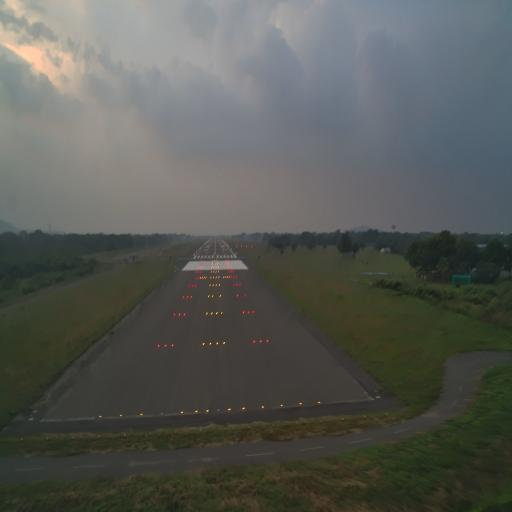off: (216, 406, 221, 414), (160, 409, 164, 418)
on: (240, 403, 246, 414), (298, 400, 304, 409), (179, 406, 184, 416), (194, 407, 199, 417), (204, 407, 210, 415), (260, 403, 266, 411), (227, 404, 232, 413), (208, 339, 213, 348), (98, 413, 103, 420), (201, 340, 206, 347), (119, 410, 123, 418), (222, 339, 226, 347), (156, 342, 160, 349), (252, 339, 256, 346), (140, 410, 143, 418), (259, 338, 262, 345), (280, 402, 283, 408), (171, 342, 174, 348), (216, 341, 219, 347), (266, 338, 269, 344), (318, 399, 320, 405), (165, 342, 167, 348)
